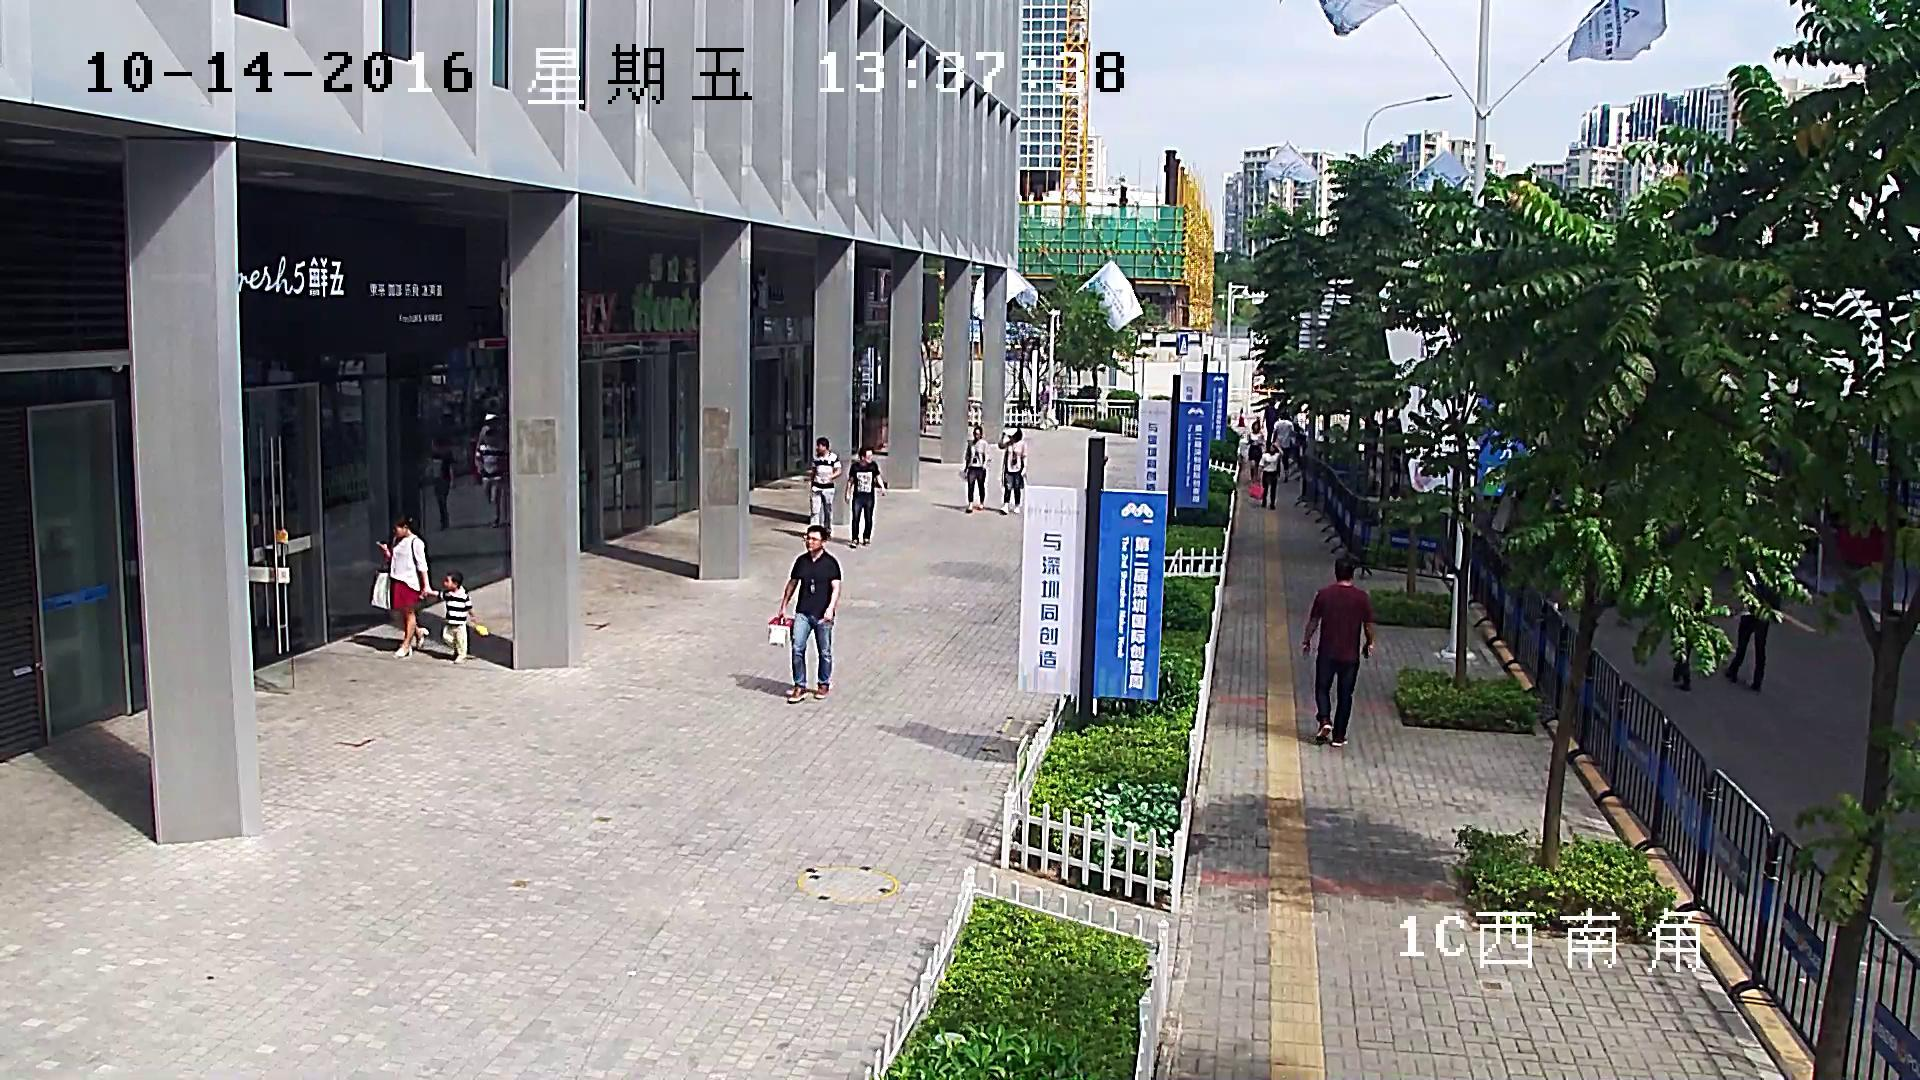person: (1301, 556, 1378, 747), (766, 524, 841, 704), (367, 516, 432, 657), (423, 570, 488, 664), (1724, 584, 1779, 692), (844, 447, 888, 548), (473, 418, 510, 527), (809, 437, 841, 541), (424, 438, 456, 530), (1248, 441, 1284, 509), (997, 426, 1024, 515), (963, 425, 985, 513), (1273, 413, 1294, 482), (1673, 635, 1693, 692), (1247, 417, 1262, 480), (1040, 383, 1057, 430), (1262, 399, 1276, 452), (1365, 418, 1380, 471)
